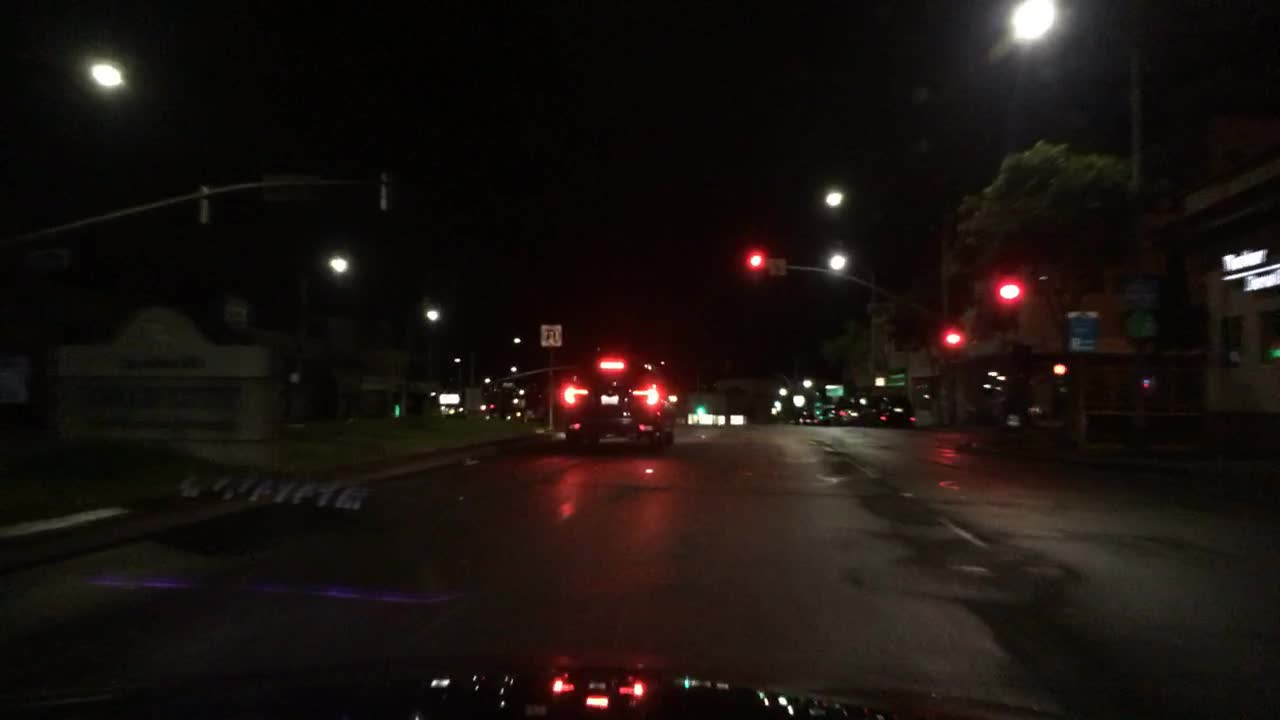car: (557, 361, 681, 451), (835, 385, 917, 427)
traffic light: (590, 354, 630, 376), (989, 280, 1026, 300), (740, 249, 768, 271), (938, 330, 969, 346)
